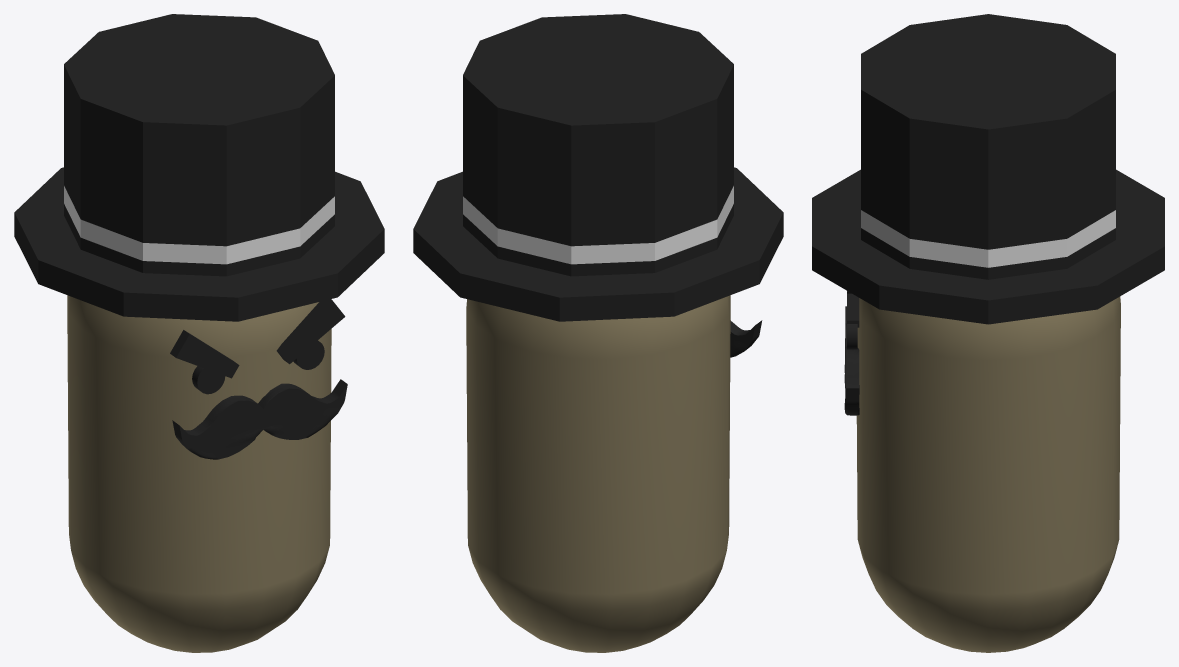
File: Potato.fbx
The picture shows the model from 3 angles, left to right: view 1: azimuth 30°, elevation 25°; view 2: azimuth 150°, elevation 25°; view 3: azimuth 270°, elevation 25°; orthographic projection.
Parts seen in each view (by area): view 1: Top_Hat, Body, Moustache, Left_Eyebrow, Right_Eyebrow, Right_Eye, Left_Eye; view 2: Top_Hat, Body, Moustache; view 3: Top_Hat, Body, Moustache.
Boxes of the visible parts, x1,y1,x2,y2 form: Top_Hat: (14, 14, 384, 321); Body: (67, 295, 331, 652); Moustache: (172, 379, 347, 459); Left_Eyebrow: (276, 299, 345, 364); Right_Eyebrow: (170, 330, 239, 378); Right_Eye: (192, 366, 225, 394); Left_Eye: (293, 340, 324, 369); Top_Hat: (413, 14, 783, 321); Body: (466, 295, 730, 652); Moustache: (730, 320, 762, 357); Top_Hat: (812, 14, 1164, 324); Body: (856, 296, 1120, 652); Moustache: (844, 306, 859, 415).
Bounding box in the file's own units: 280 × 474 × 266.
